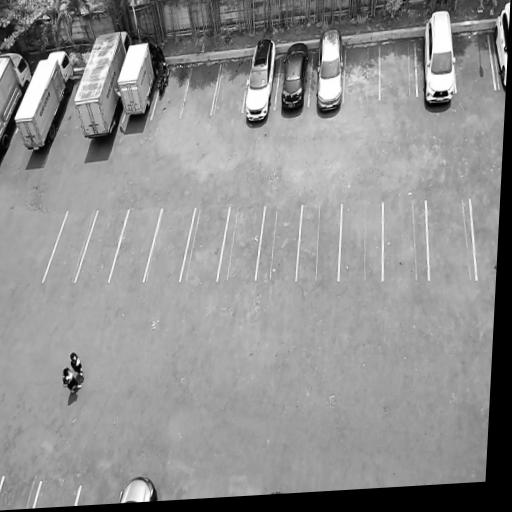Car: (70, 20, 133, 145), (11, 47, 83, 152), (114, 30, 164, 124), (419, 5, 461, 116), (0, 47, 39, 149), (241, 37, 278, 127), (313, 25, 346, 120), (277, 35, 311, 123), (490, 0, 510, 107), (117, 469, 161, 503)
Space Available: (426, 192, 476, 279), (43, 208, 98, 281), (110, 206, 162, 283), (181, 202, 231, 281), (382, 197, 429, 280), (76, 208, 128, 281), (216, 204, 265, 281), (338, 198, 382, 279), (144, 209, 194, 279), (298, 203, 341, 280), (257, 204, 301, 279), (453, 29, 495, 90), (471, 193, 500, 280), (378, 35, 416, 101), (211, 53, 250, 115), (343, 38, 379, 101), (181, 60, 221, 115), (32, 481, 81, 508), (0, 478, 40, 509), (75, 487, 122, 504)
